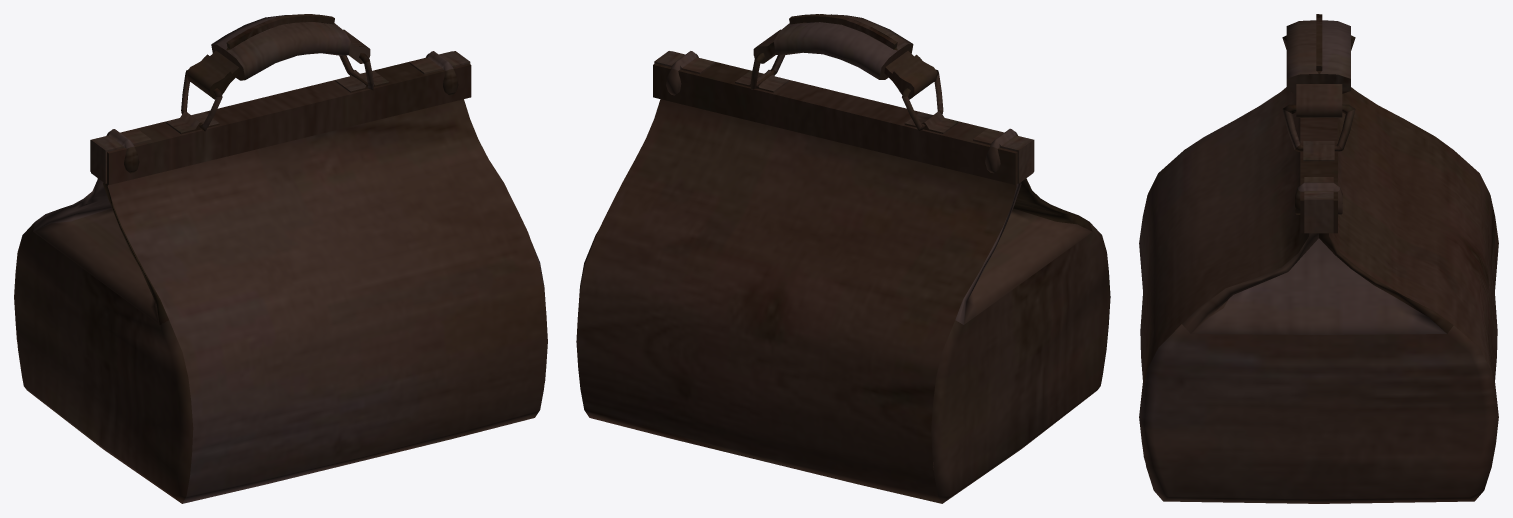
File: bagOk.fbx
The picture shows the model from 3 angles, left to right: view 1: azimuth 30°, elevation 25°; view 2: azimuth 150°, elevation 25°; view 3: azimuth 270°, elevation 25°; orthographic projection.
Visible parts, largest first — view 1: BagLOD0_blinn1_0; view 2: BagLOD0_blinn1_0; view 3: BagLOD0_blinn1_0.
Part boxes in pixels (x1,y1,x2,y2): BagLOD0_blinn1_0: (14,14,547,503); BagLOD0_blinn1_0: (576,14,1110,503); BagLOD0_blinn1_0: (1139,14,1498,503).
Bounding box in the file's own units: 52.37 × 52.37 × 43.64.
